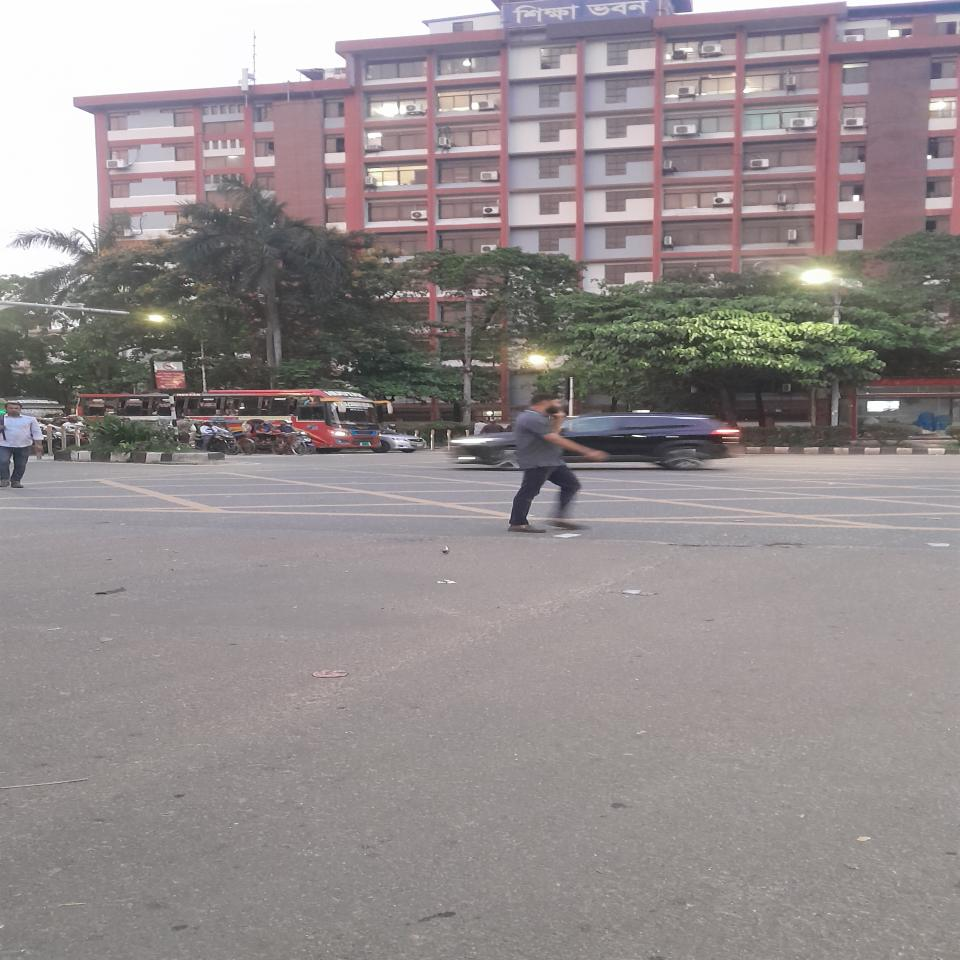person: (509, 394, 608, 533), (0, 401, 42, 489)
